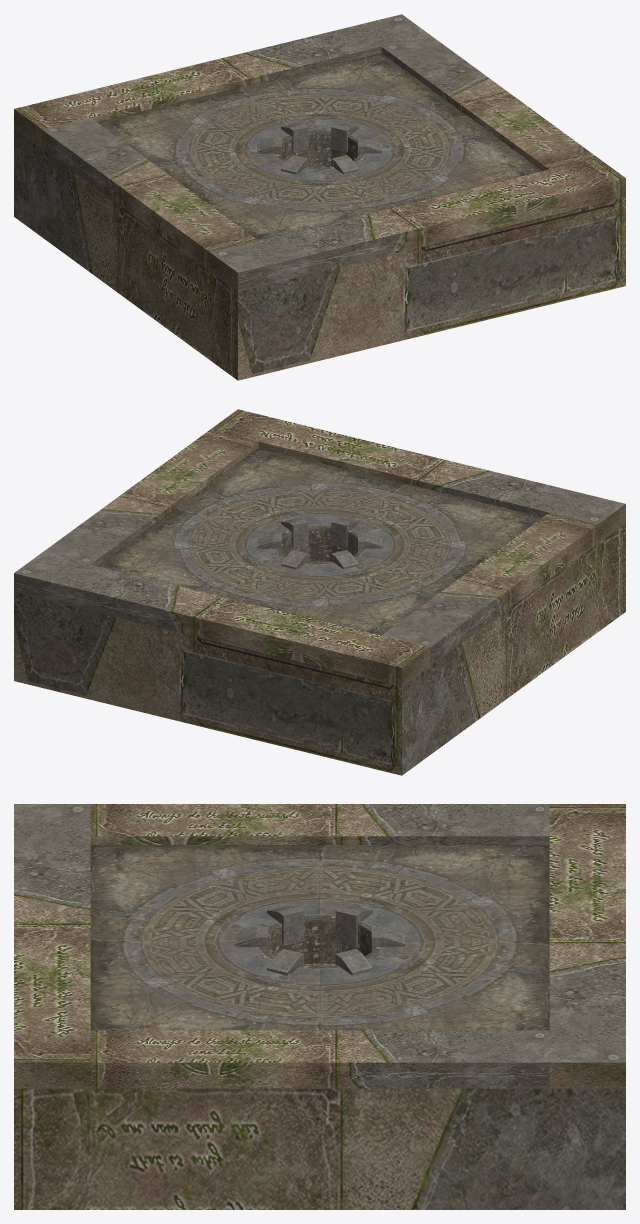
The model's file is bg_lut_lutomb_floordeco01_sm_old.FBX.
3 renders of one model, top to bottom at view 1: azimuth 30°, elevation 25°; view 2: azimuth 150°, elevation 25°; view 3: azimuth 270°, elevation 25°, orthographic. The views are drawn at different scales.
Visible parts, largest first — view 1: bg_lut_lutomb_floordeco01_sm_old; view 2: bg_lut_lutomb_floordeco01_sm_old; view 3: bg_lut_lutomb_floordeco01_sm_old.
Boxes of the visible parts, box(x1,y1,x2,y2) form: bg_lut_lutomb_floordeco01_sm_old: box(14, 14, 625, 380); bg_lut_lutomb_floordeco01_sm_old: box(14, 409, 625, 775); bg_lut_lutomb_floordeco01_sm_old: box(14, 804, 625, 1209).
Bounding box in the file's own units: 512 × 137 × 512.
